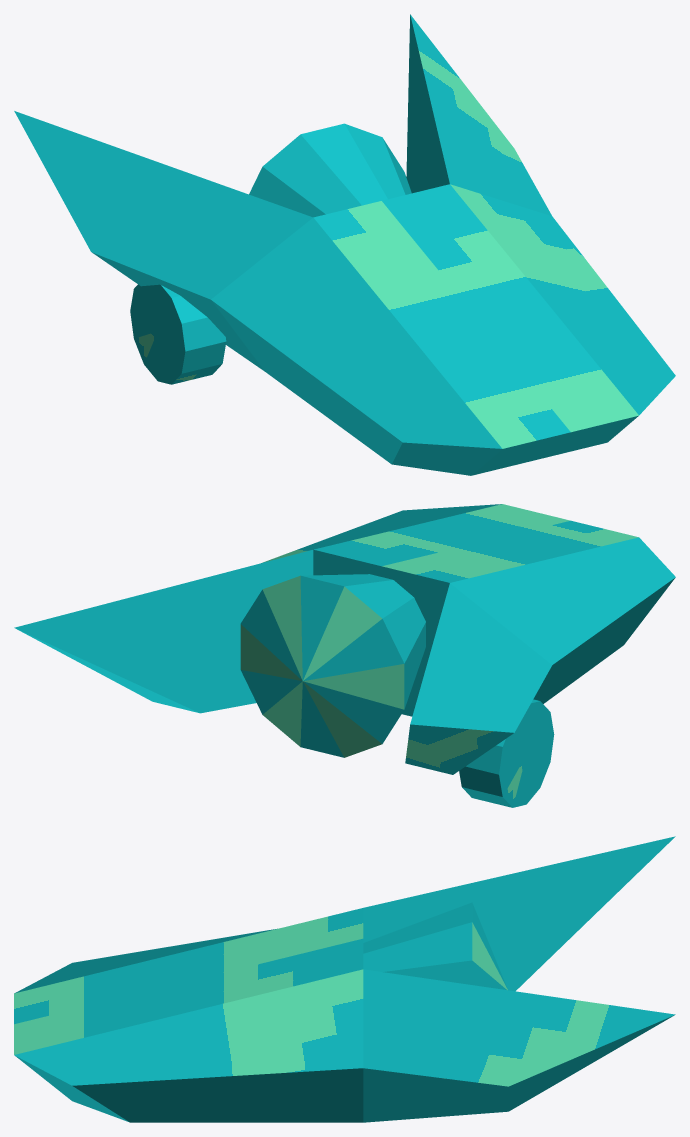
File: ANACONDA.fbx
The picture shows the model from 3 angles, top to bottom: view 1: azimuth 30°, elevation 25°; view 2: azimuth 150°, elevation 25°; view 3: azimuth 270°, elevation 25°; orthographic projection. The views are drawn at different scales.
Parts seen in each view (by area): view 1: cube, cylinder, cylinder_1; view 2: cube, cylinder, cylinder_1; view 3: cube, cylinder.
Part boxes in pixels (x1,y1,x2,y2): cube: (14,14,675,475); cylinder: (249,123,411,217); cylinder_1: (130,284,226,384); cube: (14,504,675,774); cylinder: (240,574,425,757); cylinder_1: (459,699,554,807); cube: (14,836,675,1122); cylinder: (363,902,507,990).
Bounding box in the file's own units: 38.75 × 16.88 × 56.88.
Materials: 3 (3 with a texture image).
